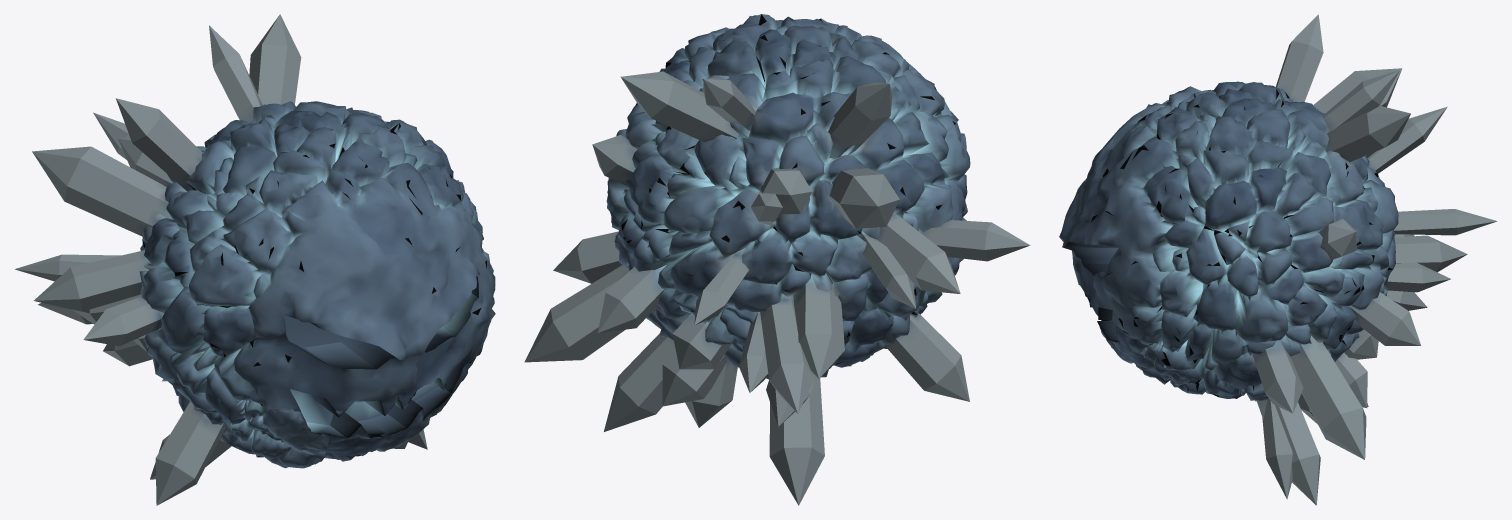
Rendered from Frost.fbx.
3 renders of one model, left to right at view 1: azimuth 30°, elevation 25°; view 2: azimuth 150°, elevation 25°; view 3: azimuth 270°, elevation 25°, orthographic. The views are drawn at different scales.
Visible parts, largest first — view 1: Body, Jaw; view 2: Body; view 3: Body, Jaw.
Part boxes in pixels (<box>): Body: <box>15,14,495,505</box>; Jaw: <box>231,358,475,468</box>; Body: <box>524,14,1030,505</box>; Body: <box>1059,14,1497,505</box>; Jaw: <box>1087,297,1190,393</box>.
Bounding box in the file's own units: 1.4 × 1.29 × 1.38.
Materials: 2 (2 with a texture image).
